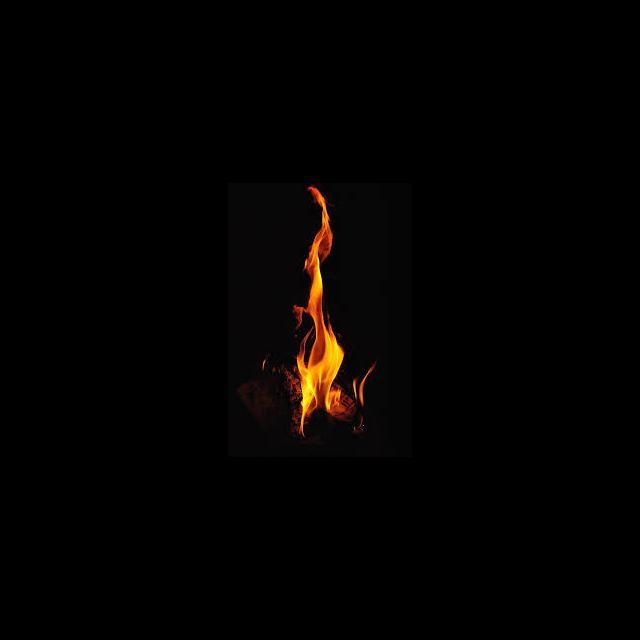Fire: (267, 188, 378, 444)
